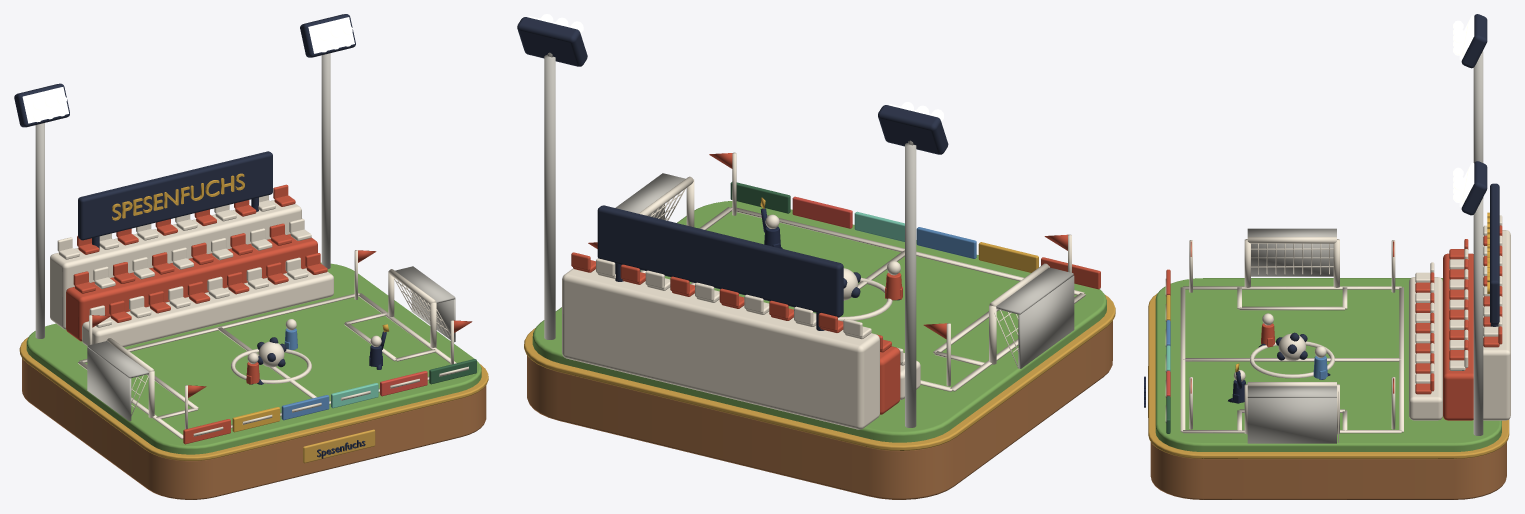
The model's file is spesen.glb.
3 views of the same model, side by side, from view 1: azimuth 30°, elevation 25°; view 2: azimuth 150°, elevation 25°; view 3: azimuth 270°, elevation 25° (orthographic). The views are drawn at different scales.
Parts seen in each view (by area): view 1: Spesen_Deck, Spesen, Spesen_Board, Spesen_Step0, Spesen_Step2, Spesen_Step1, Spesen_XSeatsA, Spesen_XSeatsB, Spesen_Trim, Spesen_Lines, Spesen_NetW, Spesen_MastW (+20 smaller); view 2: Spesen_Step2, Spesen, Spesen_Deck, Spesen_Board, Spesen_Trim, Spesen_NetW, Spesen_Lines, Spesen_MastE, Spesen_MastW, Spesen_XSeatsA, Spesen_XSeatsB, Spesen_LampE (+13 smaller); view 3: Spesen_Deck, Spesen, Spesen_NetE, Spesen_Lines, Spesen_Trim, Spesen_NetW, Spesen_XSeatsA, Spesen_XSeatsB, Spesen_Step2, Spesen_Step1, Spesen_Step0, Spesen_MastE (+10 smaller).
Boxes of the visible parts, left/top/right/bottom form: Spesen_Deck: left=26, top=262, right=481, bottom=454; Spesen: left=22, top=358, right=486, bottom=499; Spesen_Board: left=78, top=151, right=272, bottom=248; Spesen_Step0: left=82, top=268, right=333, bottom=347; Spesen_Step2: left=50, top=200, right=301, bottom=329; Spesen_Step1: left=66, top=234, right=317, bottom=341; Spesen_XSeatsA: left=73, top=184, right=327, bottom=322; Spesen_XSeatsB: left=57, top=195, right=311, bottom=327; Spesen_Trim: left=19, top=337, right=488, bottom=460; Spesen_Lines: left=78, top=293, right=456, bottom=439; Spesen_NetW: left=87, top=341, right=148, bottom=421; Spesen_MastW: left=35, top=123, right=44, bottom=338; Spesen_Step2: left=562, top=268, right=879, bottom=429; Spesen: left=527, top=321, right=1112, bottom=499; Spesen_Deck: left=532, top=201, right=1106, bottom=442; Spesen_Board: left=597, top=205, right=843, bottom=330; Spesen_Trim: left=524, top=294, right=1115, bottom=450; Spesen_NetW: left=996, top=267, right=1074, bottom=368; Spesen_Lines: left=641, top=207, right=1085, bottom=391; Spesen_MastE: left=544, top=55, right=555, bottom=339; Spesen_MastW: left=905, top=143, right=916, bottom=427; Spesen_XSeatsA: left=571, top=252, right=891, bottom=352; Spesen_XSeatsB: left=596, top=258, right=904, bottom=365; Spesen_LampE: left=517, top=17, right=587, bottom=66; Spesen_Deck: left=1155, top=278, right=1501, bottom=451; Spesen: left=1150, top=442, right=1506, bottom=499; Spesen_NetE: left=1247, top=386, right=1336, bottom=443; Spesen_Lines: left=1180, top=286, right=1403, bottom=433; Spesen_Trim: left=1148, top=293, right=1509, bottom=458; Spesen_NetW: left=1247, top=228, right=1336, bottom=276; Spesen_XSeatsA: left=1415, top=225, right=1502, bottom=394; Spesen_XSeatsB: left=1415, top=215, right=1502, bottom=383; Spesen_Step2: left=1483, top=230, right=1510, bottom=420; Spesen_Step1: left=1443, top=253, right=1473, bottom=420; Spesen_Step0: left=1409, top=277, right=1442, bottom=420; Spesen_MastE: left=1473, top=198, right=1483, bottom=435.
Size of the model in its own units: 5.06 by 4.33 by 4.53.
